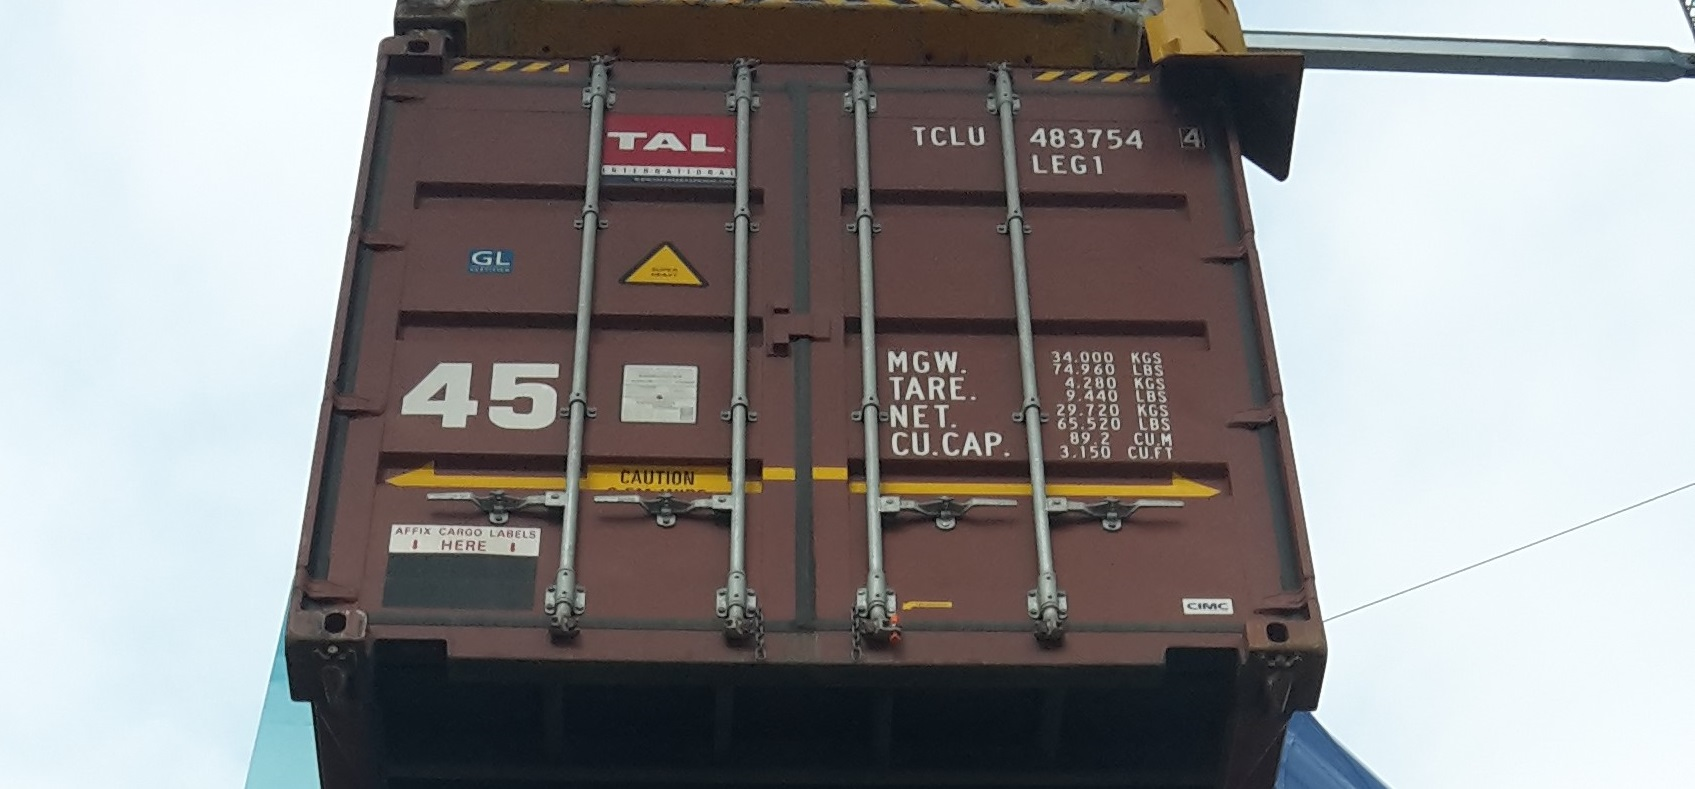container_door: (279, 39, 1320, 665)
